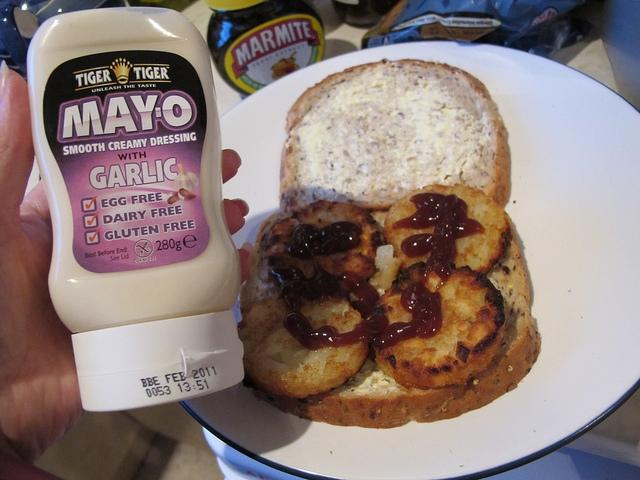potato: (369, 262, 507, 390), (238, 294, 370, 399), (383, 183, 512, 275), (266, 200, 384, 294)
